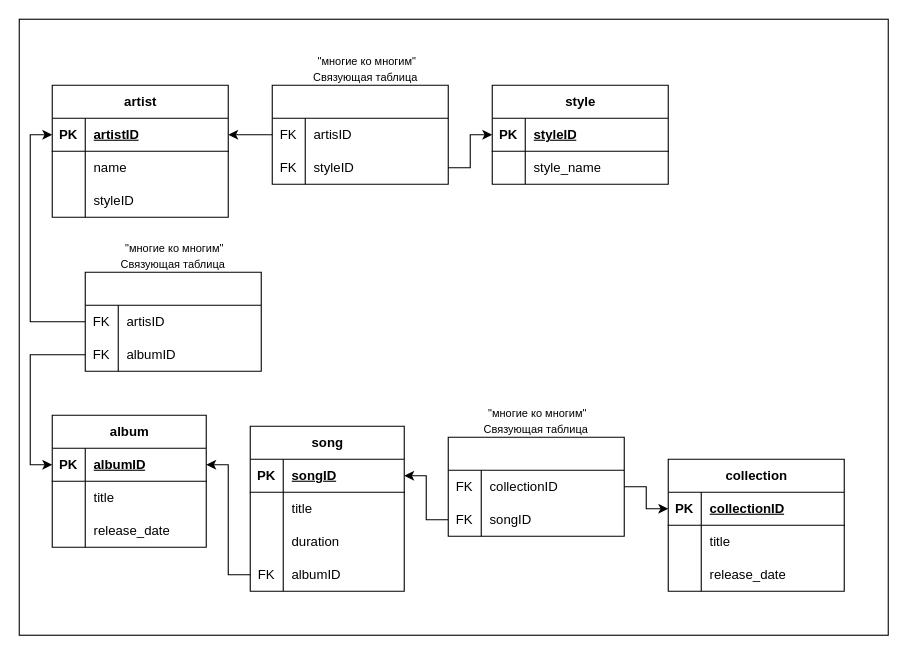
This 908x655 diagram has some shape labels left out. The shapes that lost their labels are listed below. From the top down, each one's box as (x1, y1, x2, y2) in pixels, then its label:
(271, 84, 448, 184): artist_style
(84, 271, 261, 371): artist_album
(447, 436, 624, 536): coollection_song
